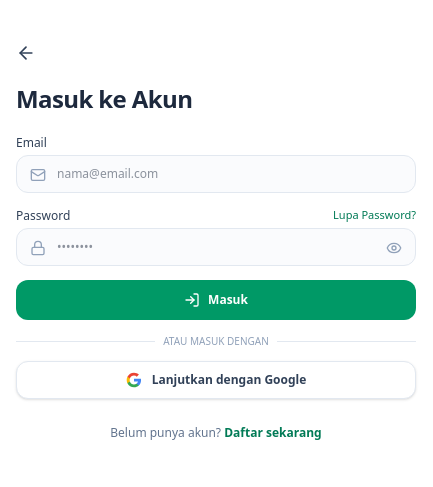
LoginPage Component Unit Tests › displays error message when login fails
This screenshot has width=433, height=487.
In the field with placeholder "nama@email.com": [216, 174] box [16,155,416,193], type "wrong@example.com"
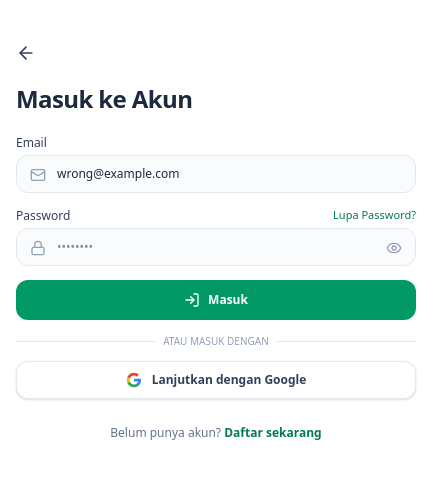
In the password field with placeholder "••••••••": [216, 247] box [16,228,416,266], type "wrongpass"
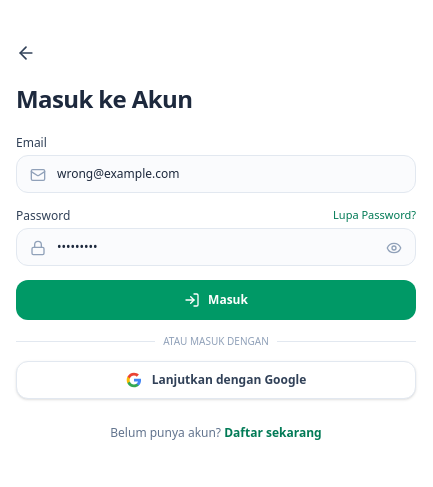
Click the button "Masuk": [216, 300] box [16,280,416,320]
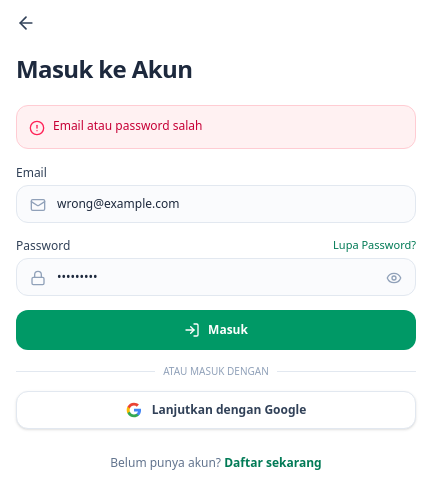
Now the text "Email atau password salah" is shown, box [53,118,202,134]
